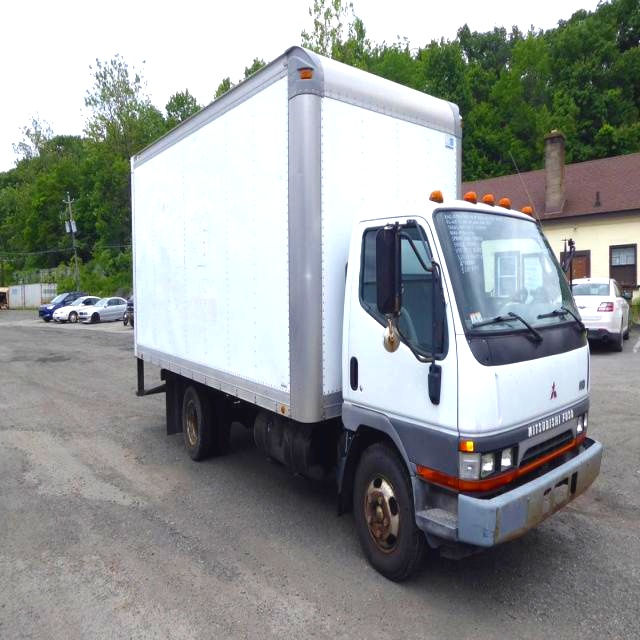car: (562, 263, 630, 360)
truck: (112, 32, 619, 584)
